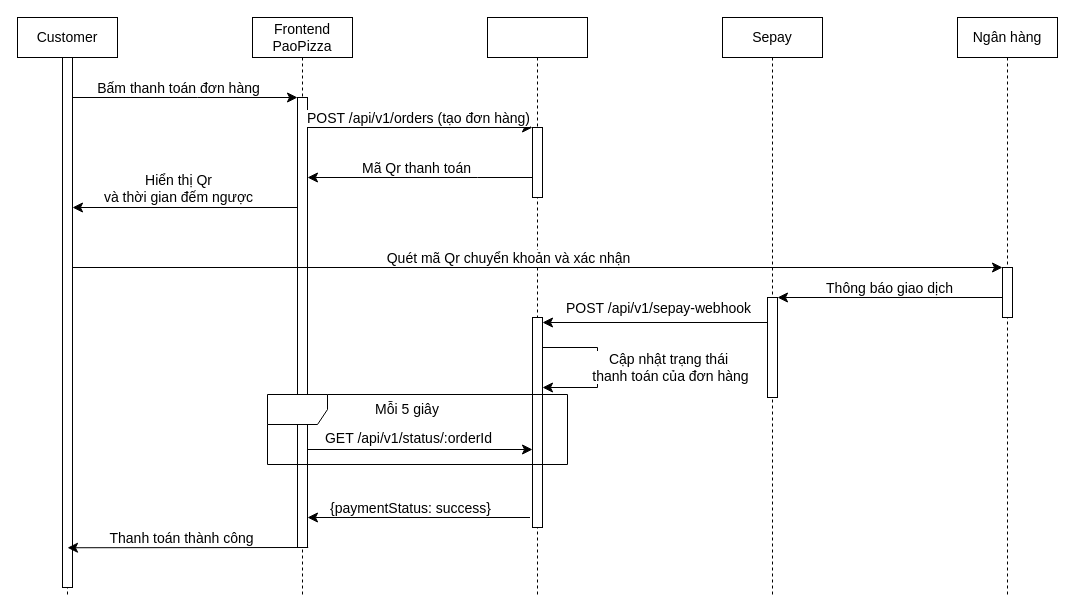
Image size: 1075x615. Some labels were removed from this diagram. Each missing label, with the box of its shape:
Backend PaoPizza: (486, 16, 588, 598)
loop: (266, 394, 568, 464)
